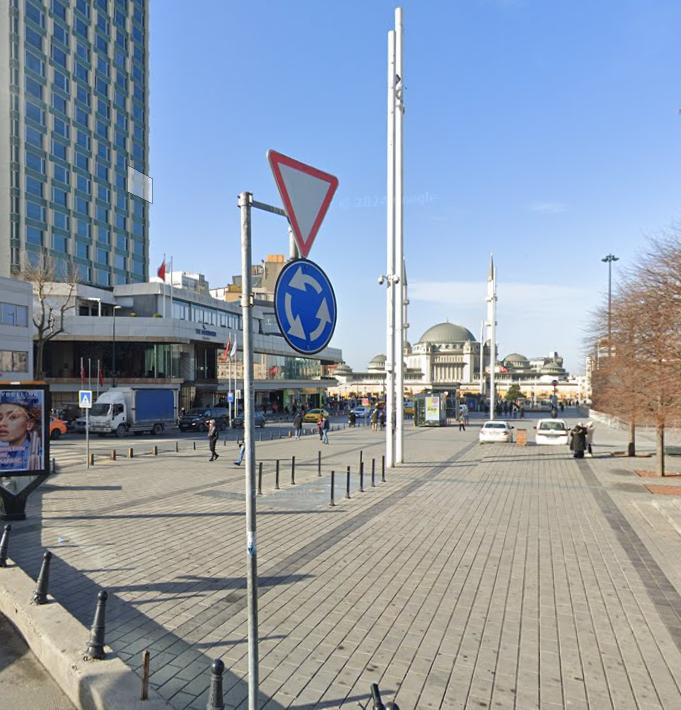crossroads: (274, 259, 338, 349)
